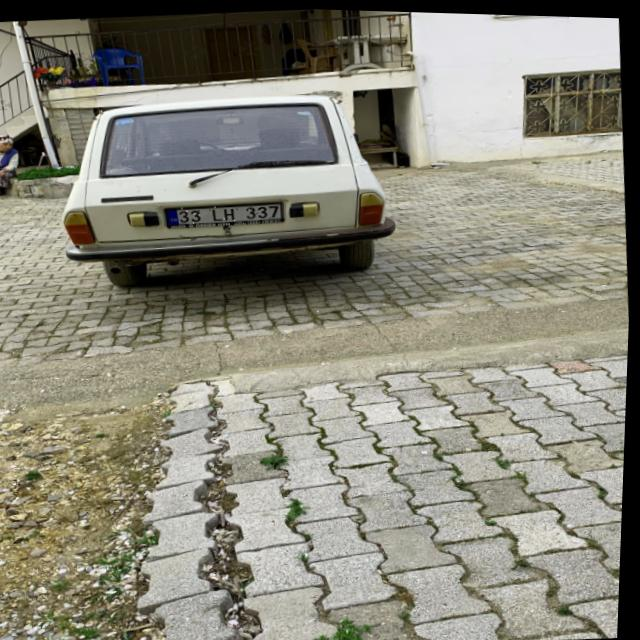license_plate: (164, 199, 286, 228)
